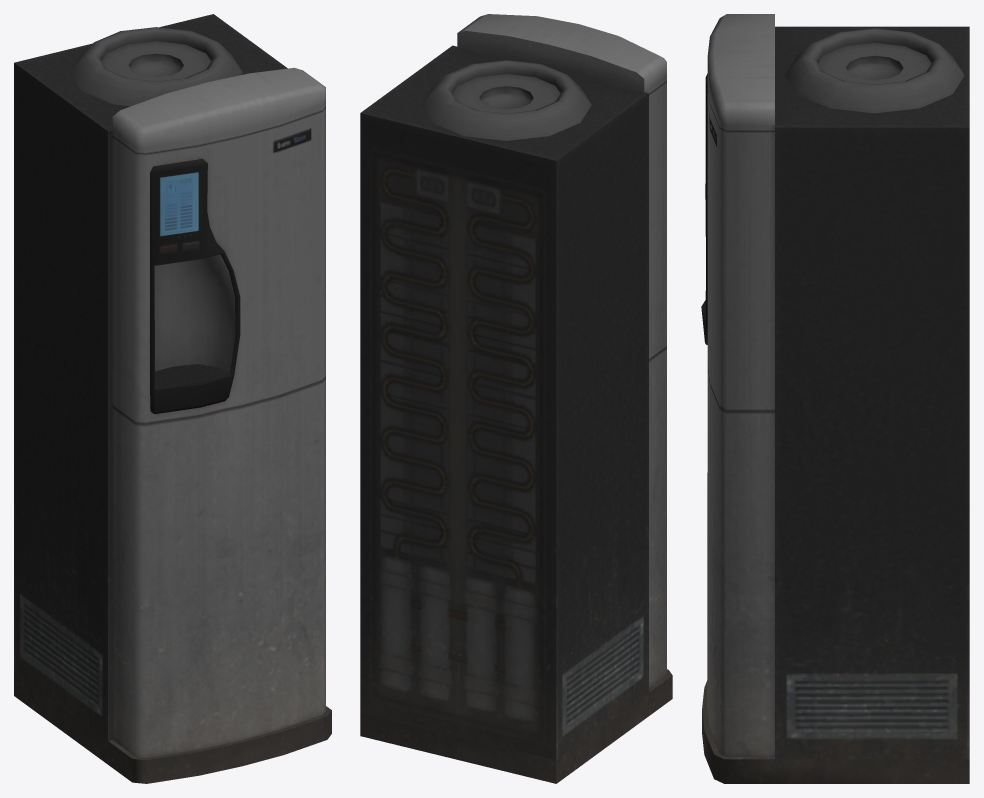
The model's file is p6_water_cooler_metal_lod0.glb.
3 views of the same model, side by side, from view 1: azimuth 30°, elevation 25°; view 2: azimuth 150°, elevation 25°; view 3: azimuth 270°, elevation 25° (orthographic). The views are drawn at different scales.
Parts seen in each view (by area): view 1: surf0; view 2: surf0; view 3: surf0.
Part boxes in pixels (x1,y1,x2,y2): surf0: (14,14,331,783); surf0: (360,14,672,783); surf0: (701,14,969,783).
Size of the model in its own units: 15.17 by 47.82 by 17.05.
